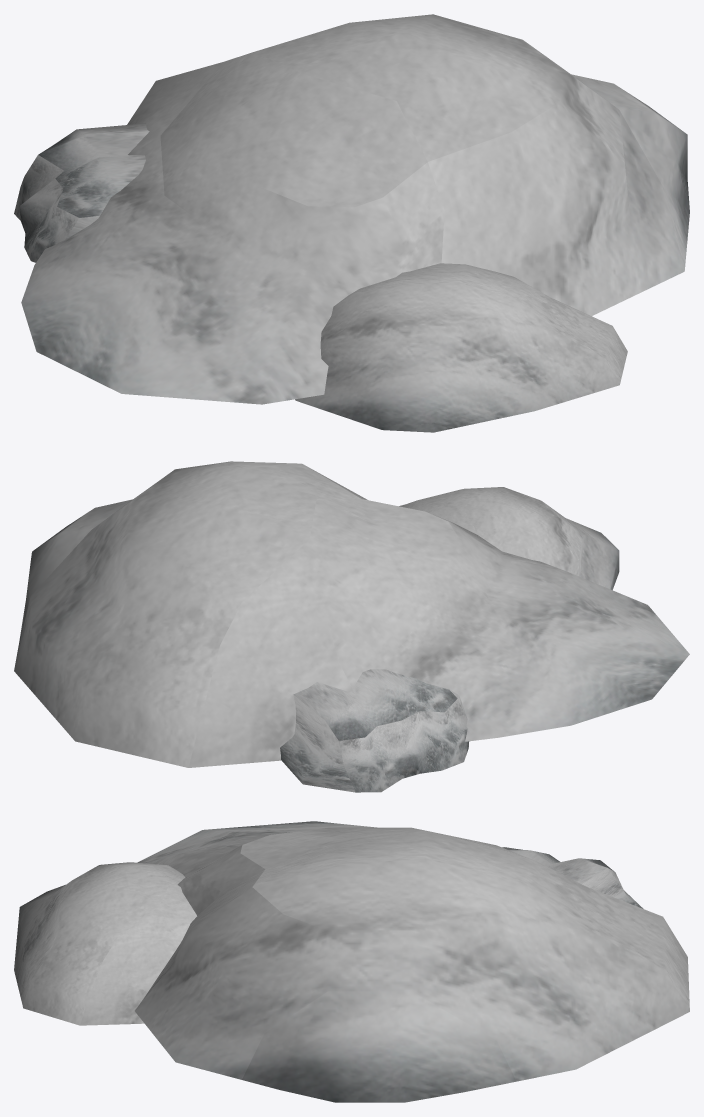
Rendered from snow_d_n02.fbx.
3 renders of one model, top to bottom at view 1: azimuth 30°, elevation 25°; view 2: azimuth 150°, elevation 25°; view 3: azimuth 270°, elevation 25°, orthographic. The views are drawn at different scales.
Parts seen in each view (by area): view 1: snow_d_n02; view 2: snow_d_n02; view 3: snow_d_n02.
Part boxes in pixels (bbox=[...]): snow_d_n02: bbox=[14, 14, 689, 432]; snow_d_n02: bbox=[14, 461, 689, 792]; snow_d_n02: bbox=[14, 821, 689, 1102].
Bounding box in the file's own units: 487 × 131 × 494.
1 material, 1 textured.
